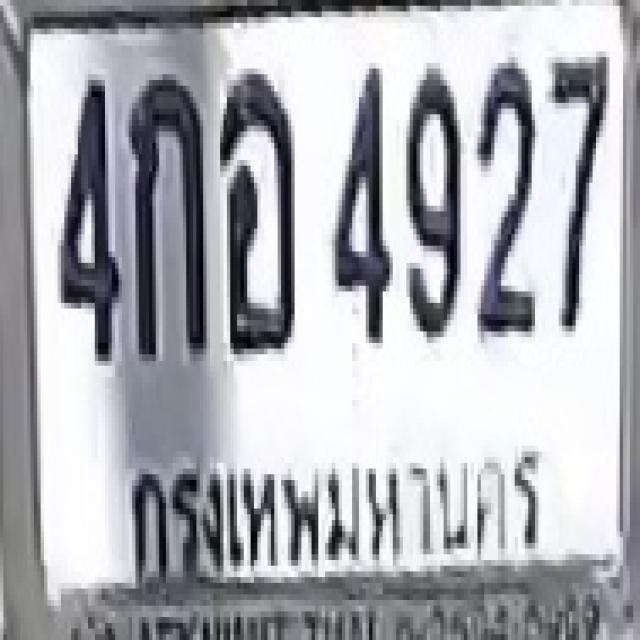2: (474, 57, 535, 337)
4: (58, 72, 119, 357), (328, 66, 389, 340)
7: (548, 51, 610, 332)
9: (403, 63, 460, 337)
A01: (127, 74, 205, 354)
A43: (218, 69, 293, 348)
BKK: (126, 428, 562, 587)
